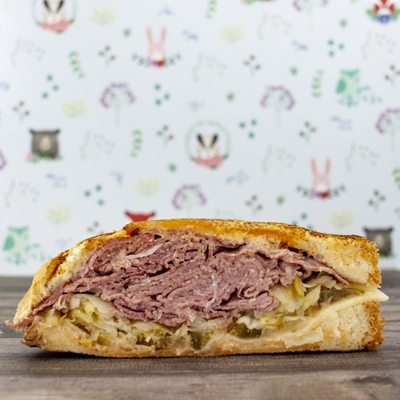soup: (11, 217, 390, 359)
